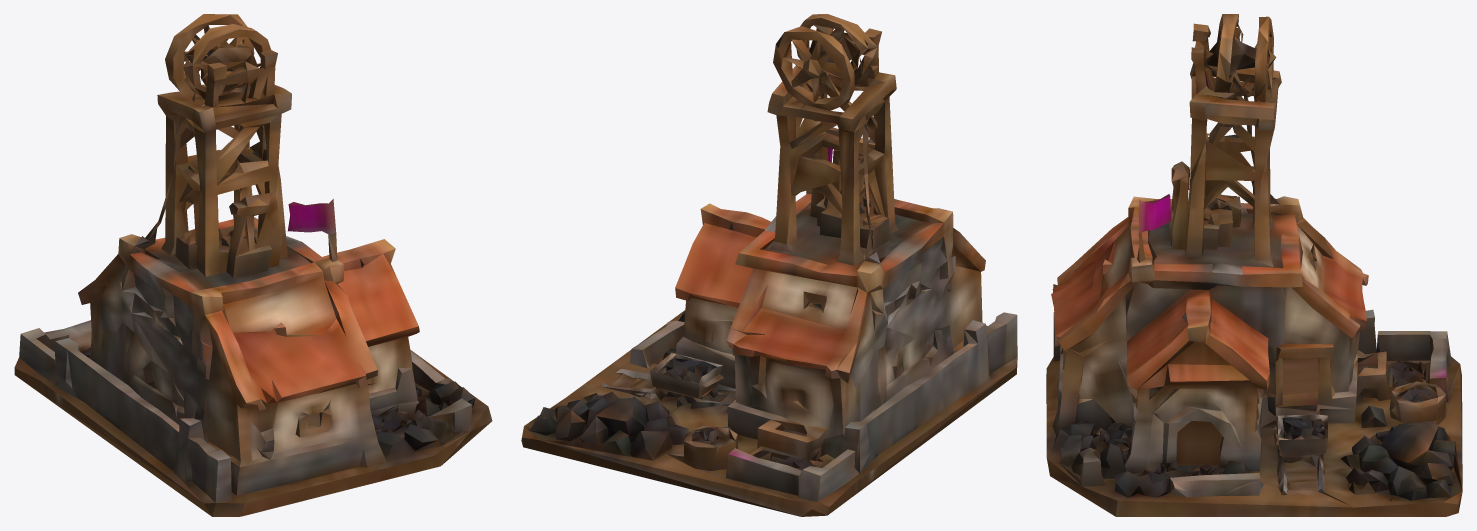
The model's file is iron_mine3.lod2.glb.
The picture shows the model from 3 angles, left to right: view 1: azimuth 30°, elevation 25°; view 2: azimuth 150°, elevation 25°; view 3: azimuth 270°, elevation 25°; orthographic projection.
Parts seen in each view (by area): view 1: iron_mine3.lod2_uv; view 2: iron_mine3.lod2_uv; view 3: iron_mine3.lod2_uv.
Part boxes in pixels (x1,y1,x2,y2): iron_mine3.lod2_uv: (14,14,492,516); iron_mine3.lod2_uv: (521,14,1017,516); iron_mine3.lod2_uv: (1046,14,1462,516).
Size of the model in its own units: 1.55 by 1.9 by 1.8.
Materials: 1 (1 with a texture image).
